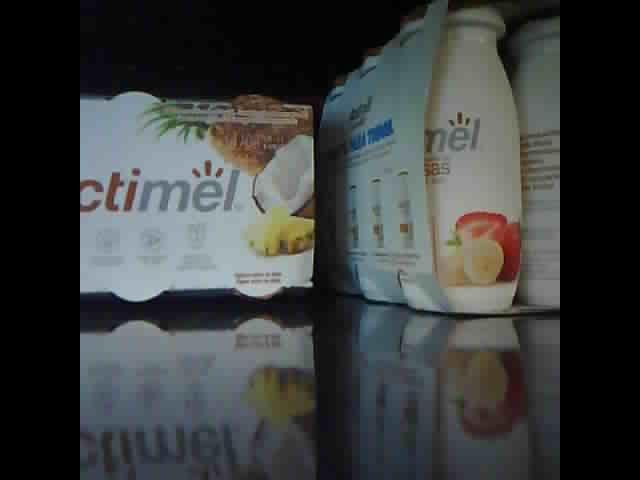actimel: (320, 1, 563, 317), (79, 90, 317, 302)
